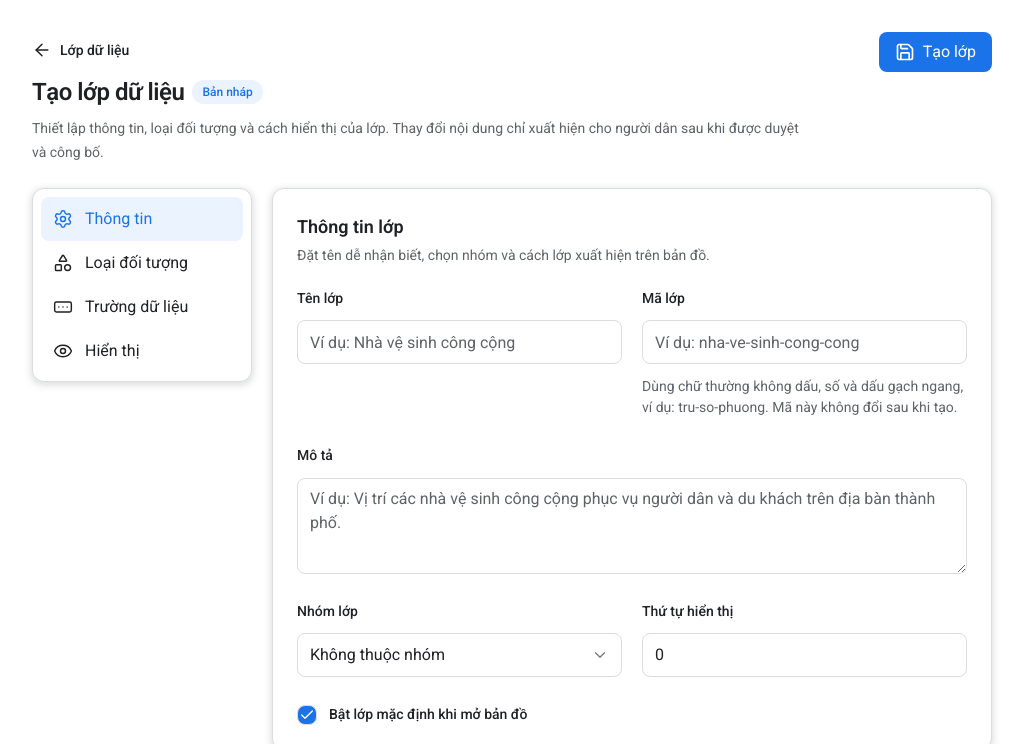
Test: layer configuration editor › keeps exact API problem context for {"status":409,"code":"SLUG_CONFLICT","requestId":"req-409","details":{},"name":"AdminApiError"}
In the field labelled "Mã lớp": (804, 342) [642,320,967,364], type "tru-so-hanh-chinh"
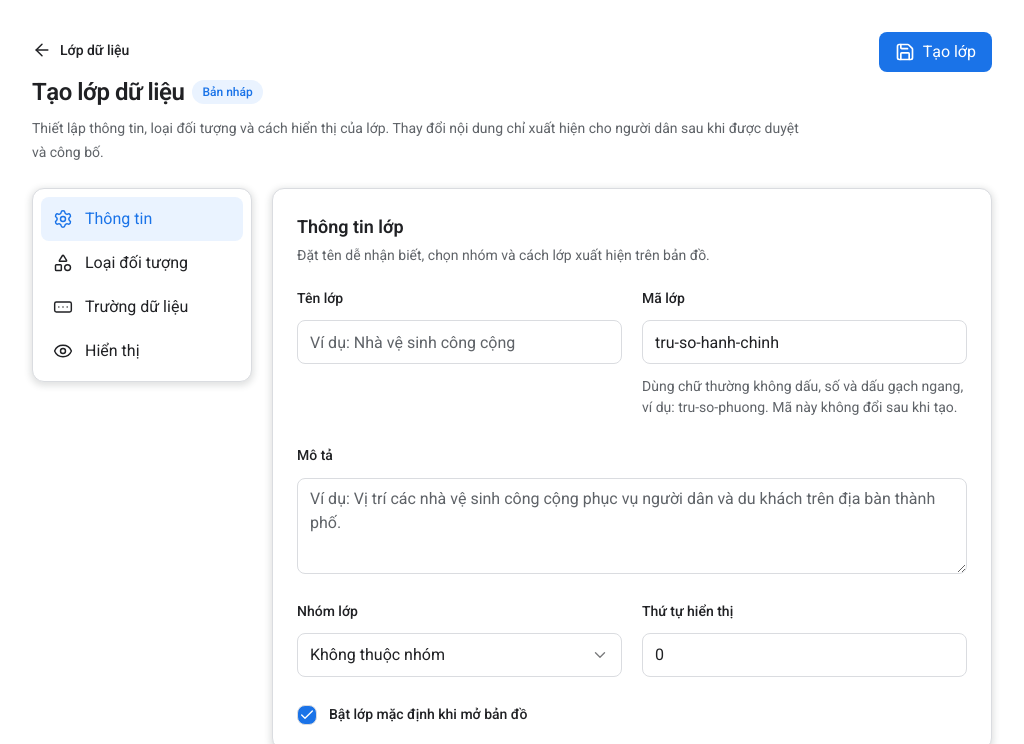
In the field labelled "Tên lớp": (460, 342) [297,320,622,364], type "Trụ sở hành chính"
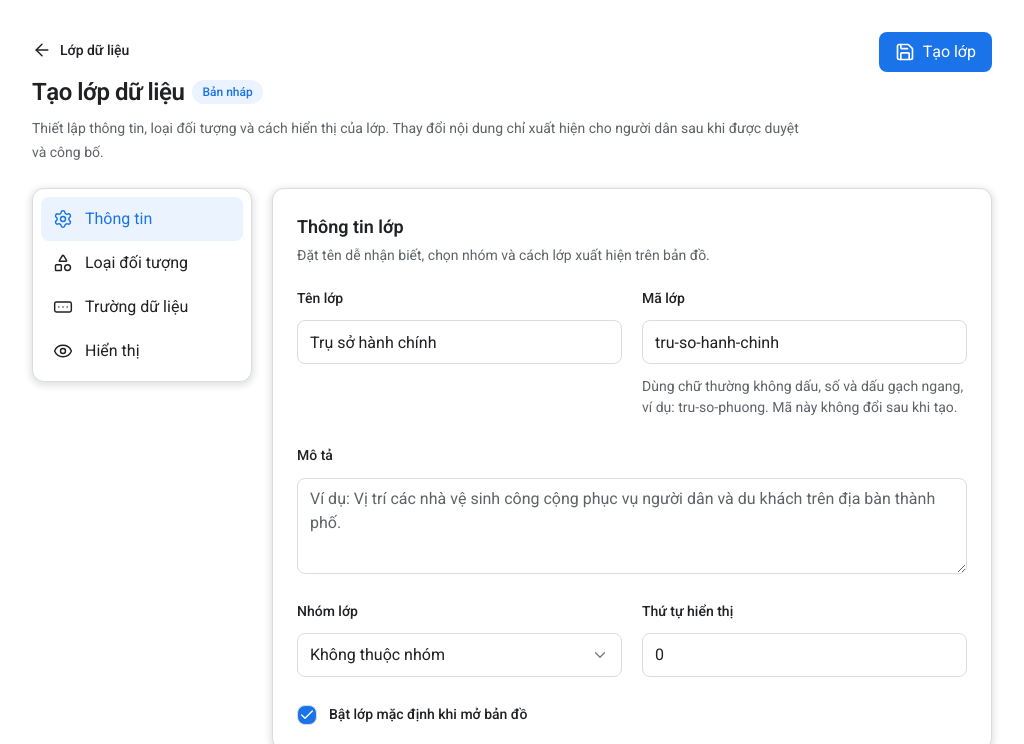
Click the button "Tạo lớp": (935, 52) [879,32,992,72]
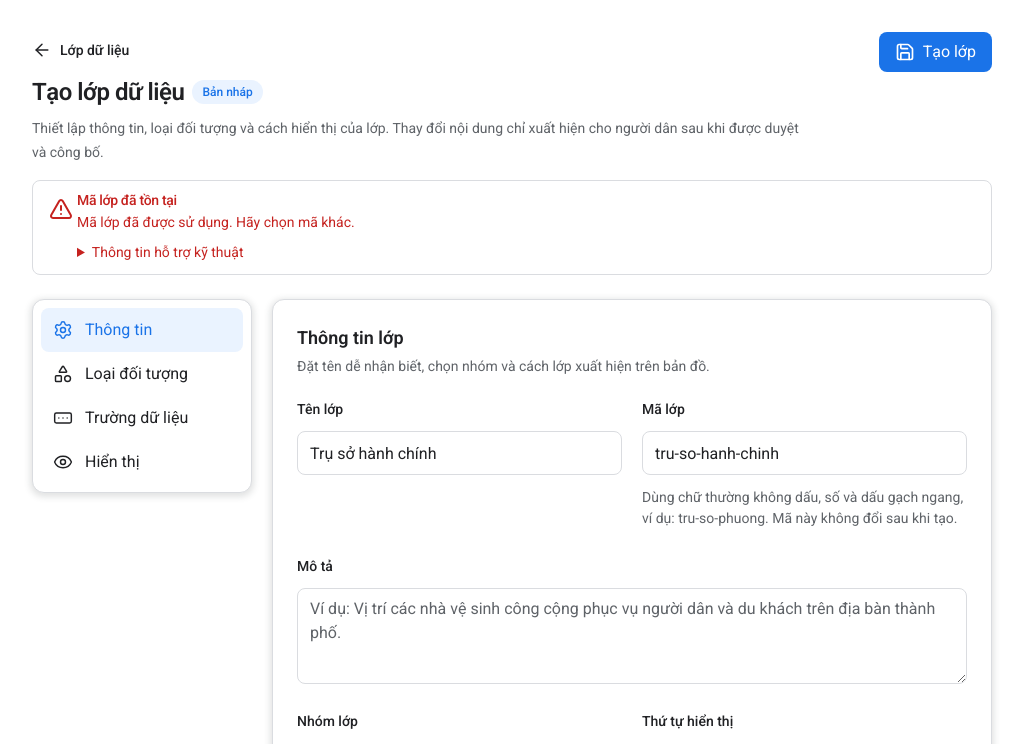
Check: the heading "Mã lớp đã tồn tại" is shown, box [77,192,177,208]
Check: the message shows "Mã lớp đã được sử dụng. Hãy chọn mã khác.", box [77,214,355,230]
